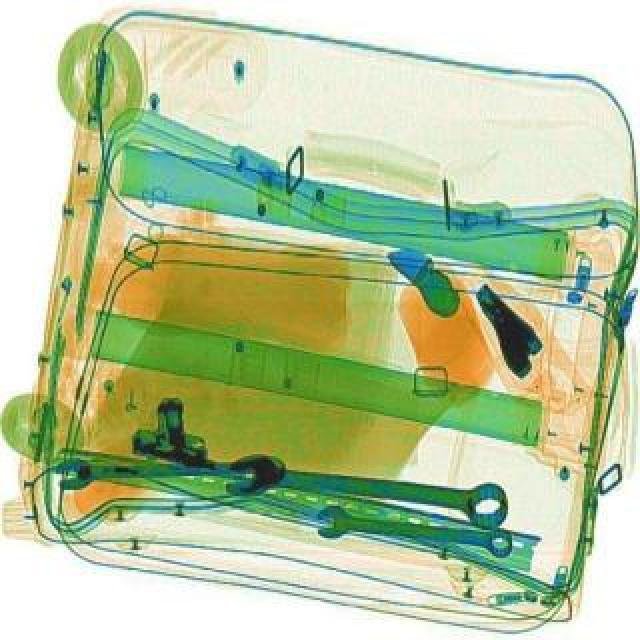gun: (128, 392, 260, 476)
scissors: (222, 448, 510, 530), (312, 502, 516, 560), (52, 450, 284, 486)
